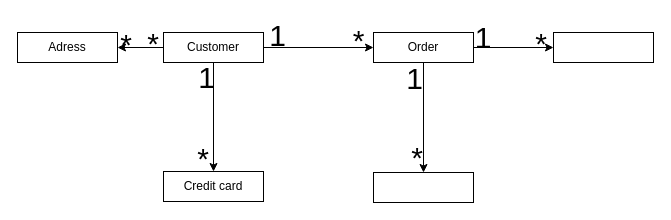
This 671x220 diagram has some shape labels left out. The centre of each missing label's shape, as x and y in pixels:
"Product" goes at point (423, 187).
"Rush Order" goes at point (603, 47).
